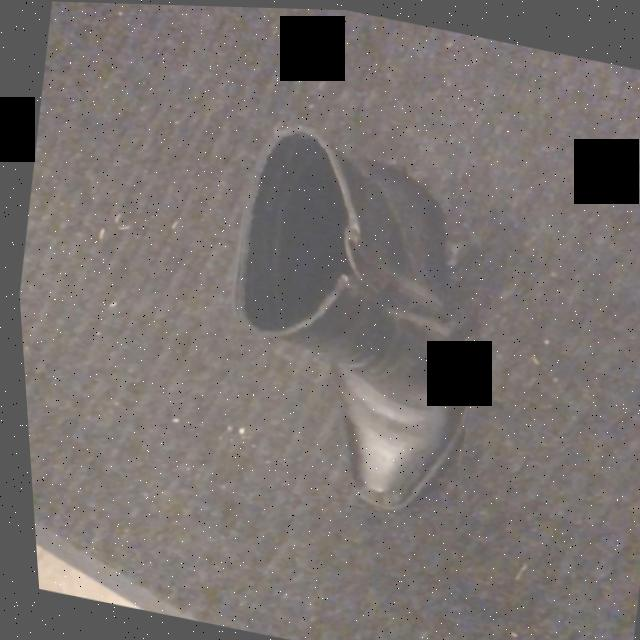shoe: (234, 126, 466, 511)
